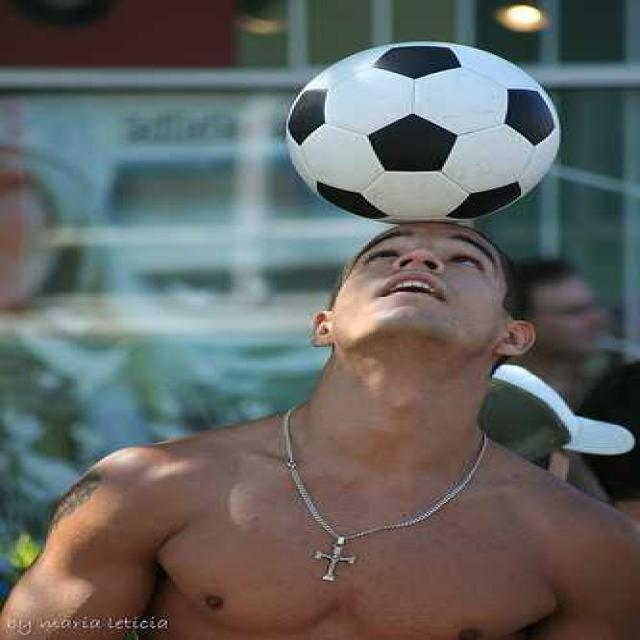ball: (285, 41, 561, 224)
